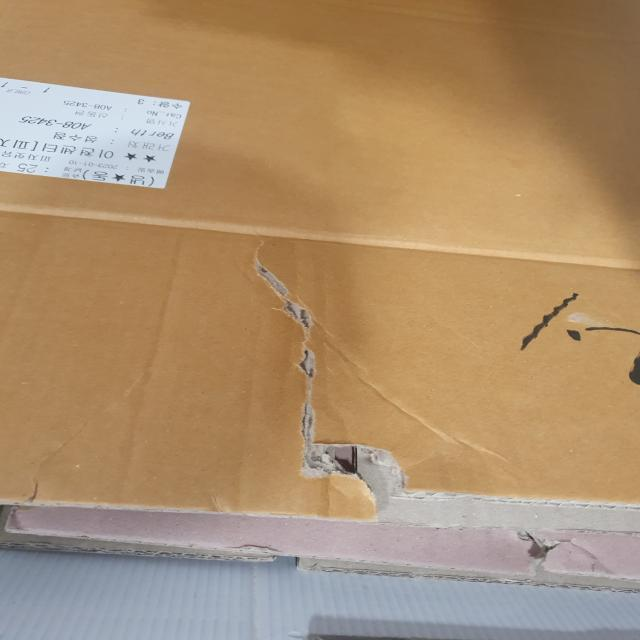hole: (261, 272, 409, 512)
